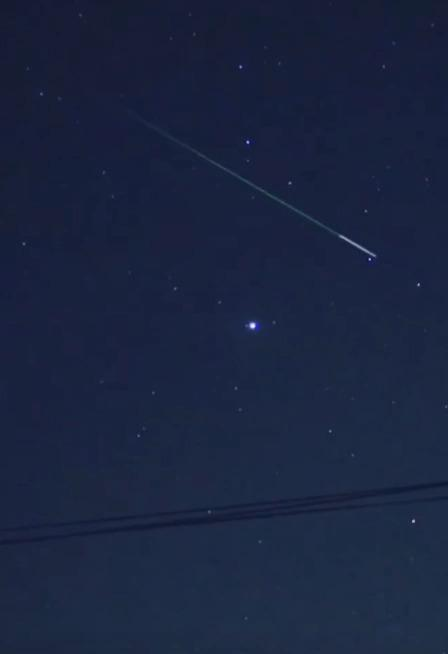meteorite: (191, 160, 389, 276)
